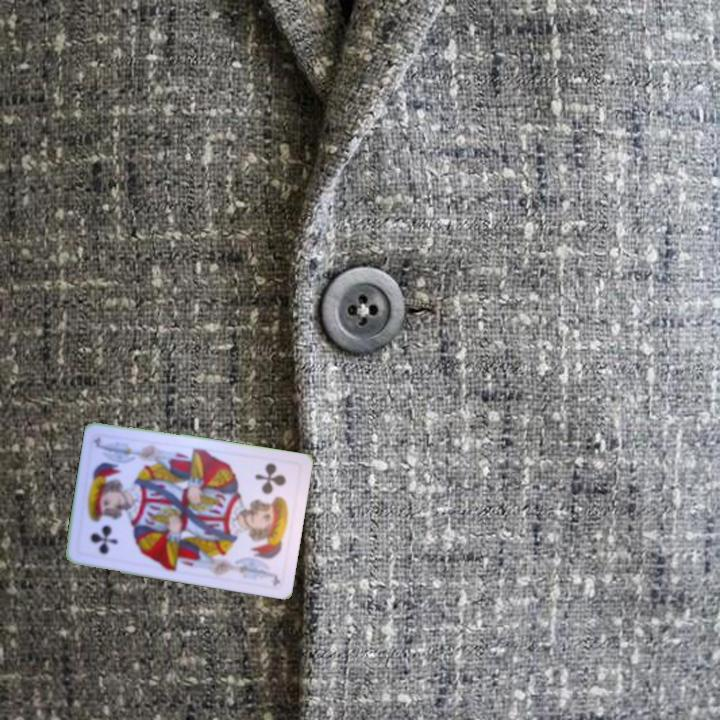c_j.png: (235, 454, 302, 529), (74, 490, 141, 564)
